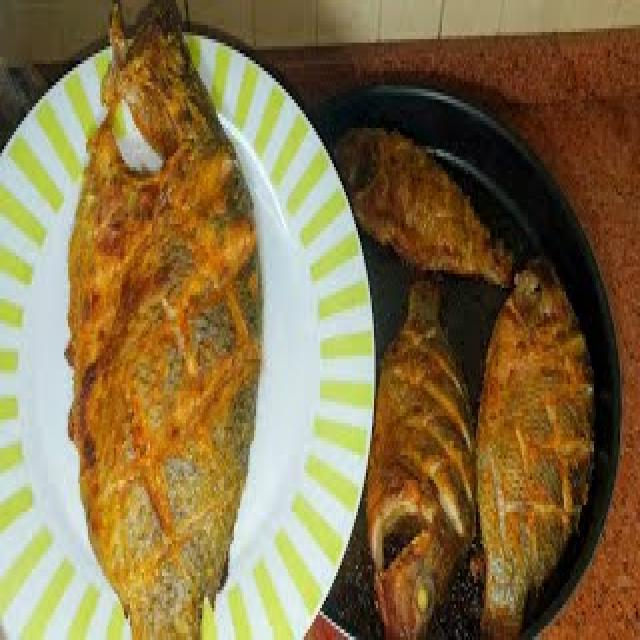Peixe: (64, 0, 262, 636), (474, 256, 596, 636), (364, 274, 478, 636)
